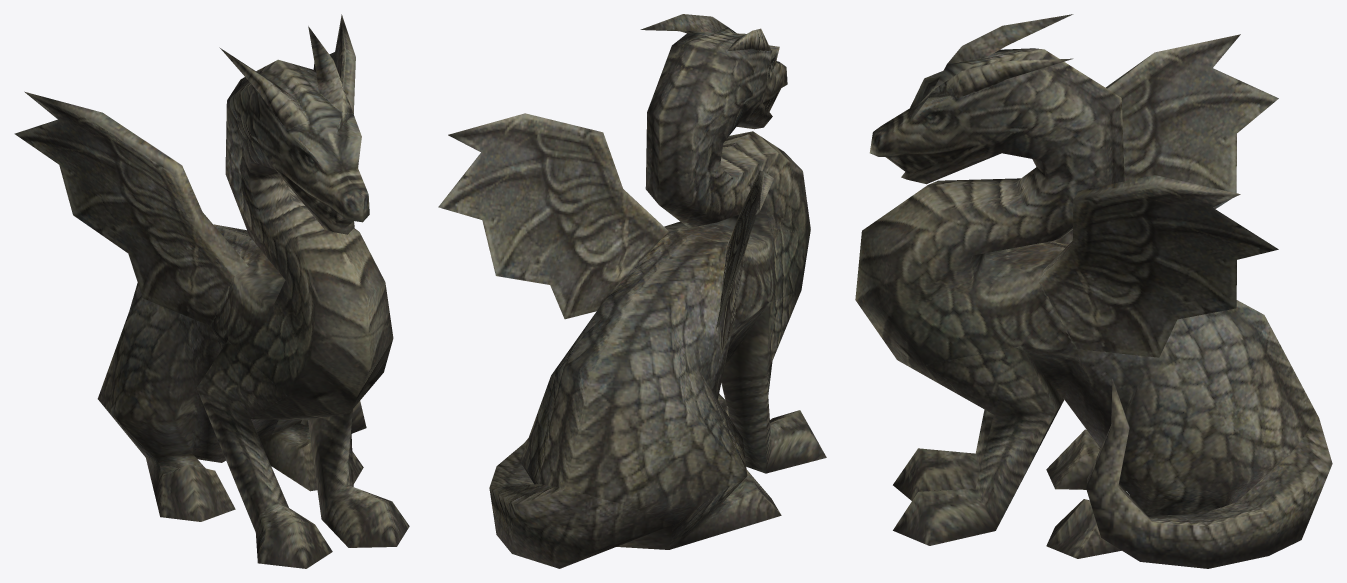
Rendered from Statue07_c.FBX.
3 views of the same model, side by side, from view 1: azimuth 30°, elevation 25°; view 2: azimuth 150°, elevation 25°; view 3: azimuth 270°, elevation 25° (orthographic). The views are drawn at different scales.
Parts seen in each view (by area): view 1: Statue07_c; view 2: Statue07_c; view 3: Statue07_c.
Boxes of the visible parts, x1=… form: Statue07_c: x1=14, y1=14, x2=409, y2=568; Statue07_c: x1=438, y1=14, x2=826, y2=568; Statue07_c: x1=855, y1=14, x2=1332, y2=568.
Bounding box in the file's own units: 122 × 167 × 153.
1 material, 1 textured.
